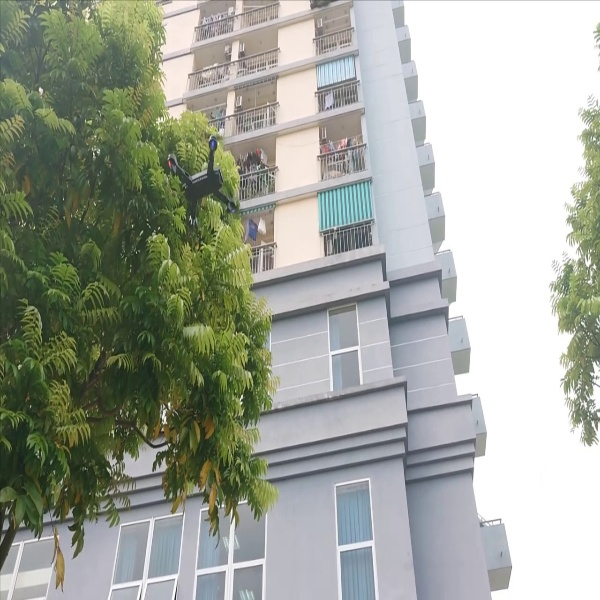drone: (165, 132, 243, 230)
